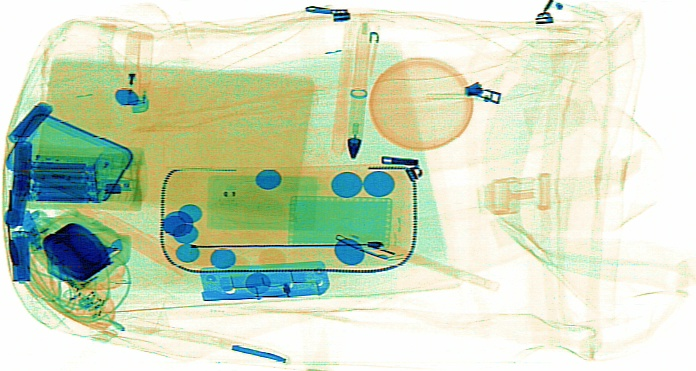lighter: (116, 29, 152, 114)
powerbank: (19, 150, 125, 206)
